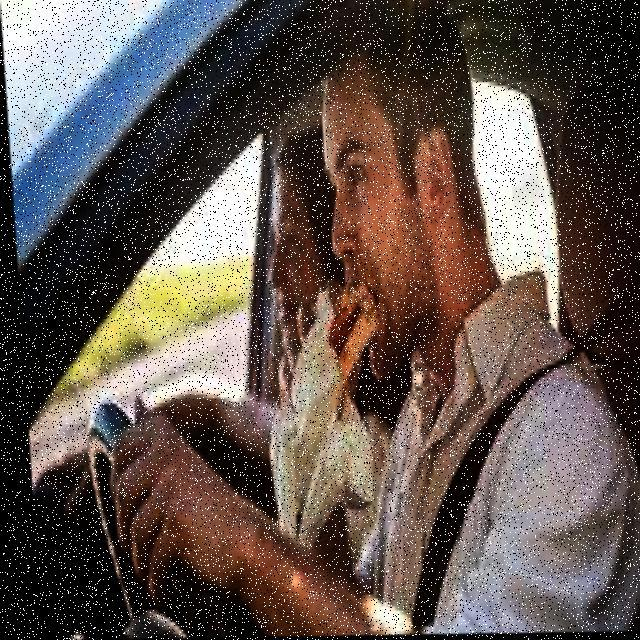seatbelt: (359, 312, 610, 636)
